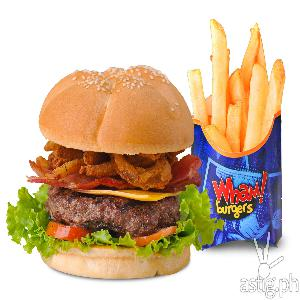cheeseburger: (7, 56, 203, 274)
fries: (183, 14, 292, 158)
